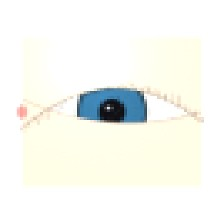pterygium_lesion: (171, 101, 200, 123)
